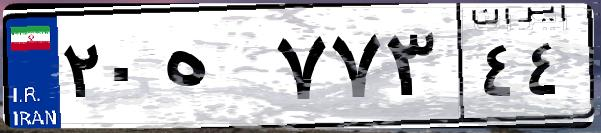0: (110, 28, 158, 98)
2: (57, 26, 110, 100)
3: (385, 28, 445, 110)
4: (475, 38, 525, 113), (525, 38, 570, 115)
7: (270, 28, 330, 110), (330, 28, 385, 110)
ه: (158, 20, 270, 120)
